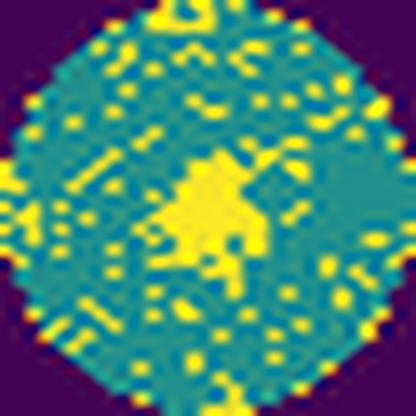Center: (144, 148, 272, 271)
